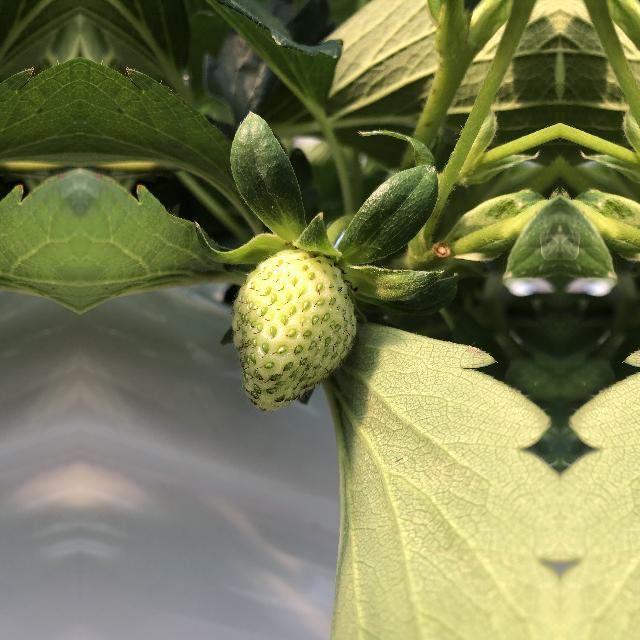Health_25: (213, 240, 369, 410)
